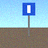sign: (23, 3, 35, 36)
